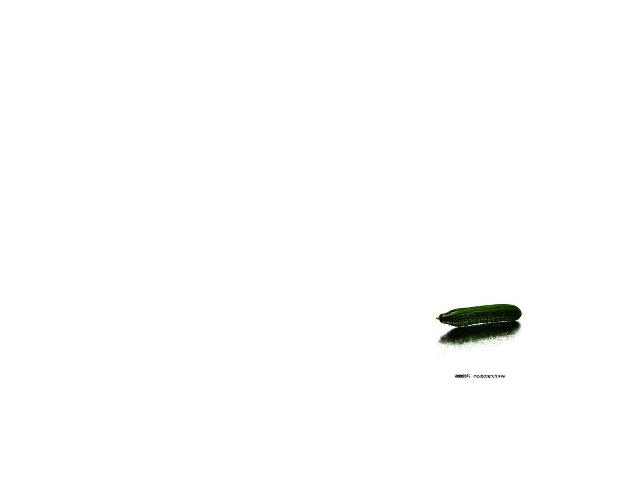cucumber: (435, 304, 520, 327)
